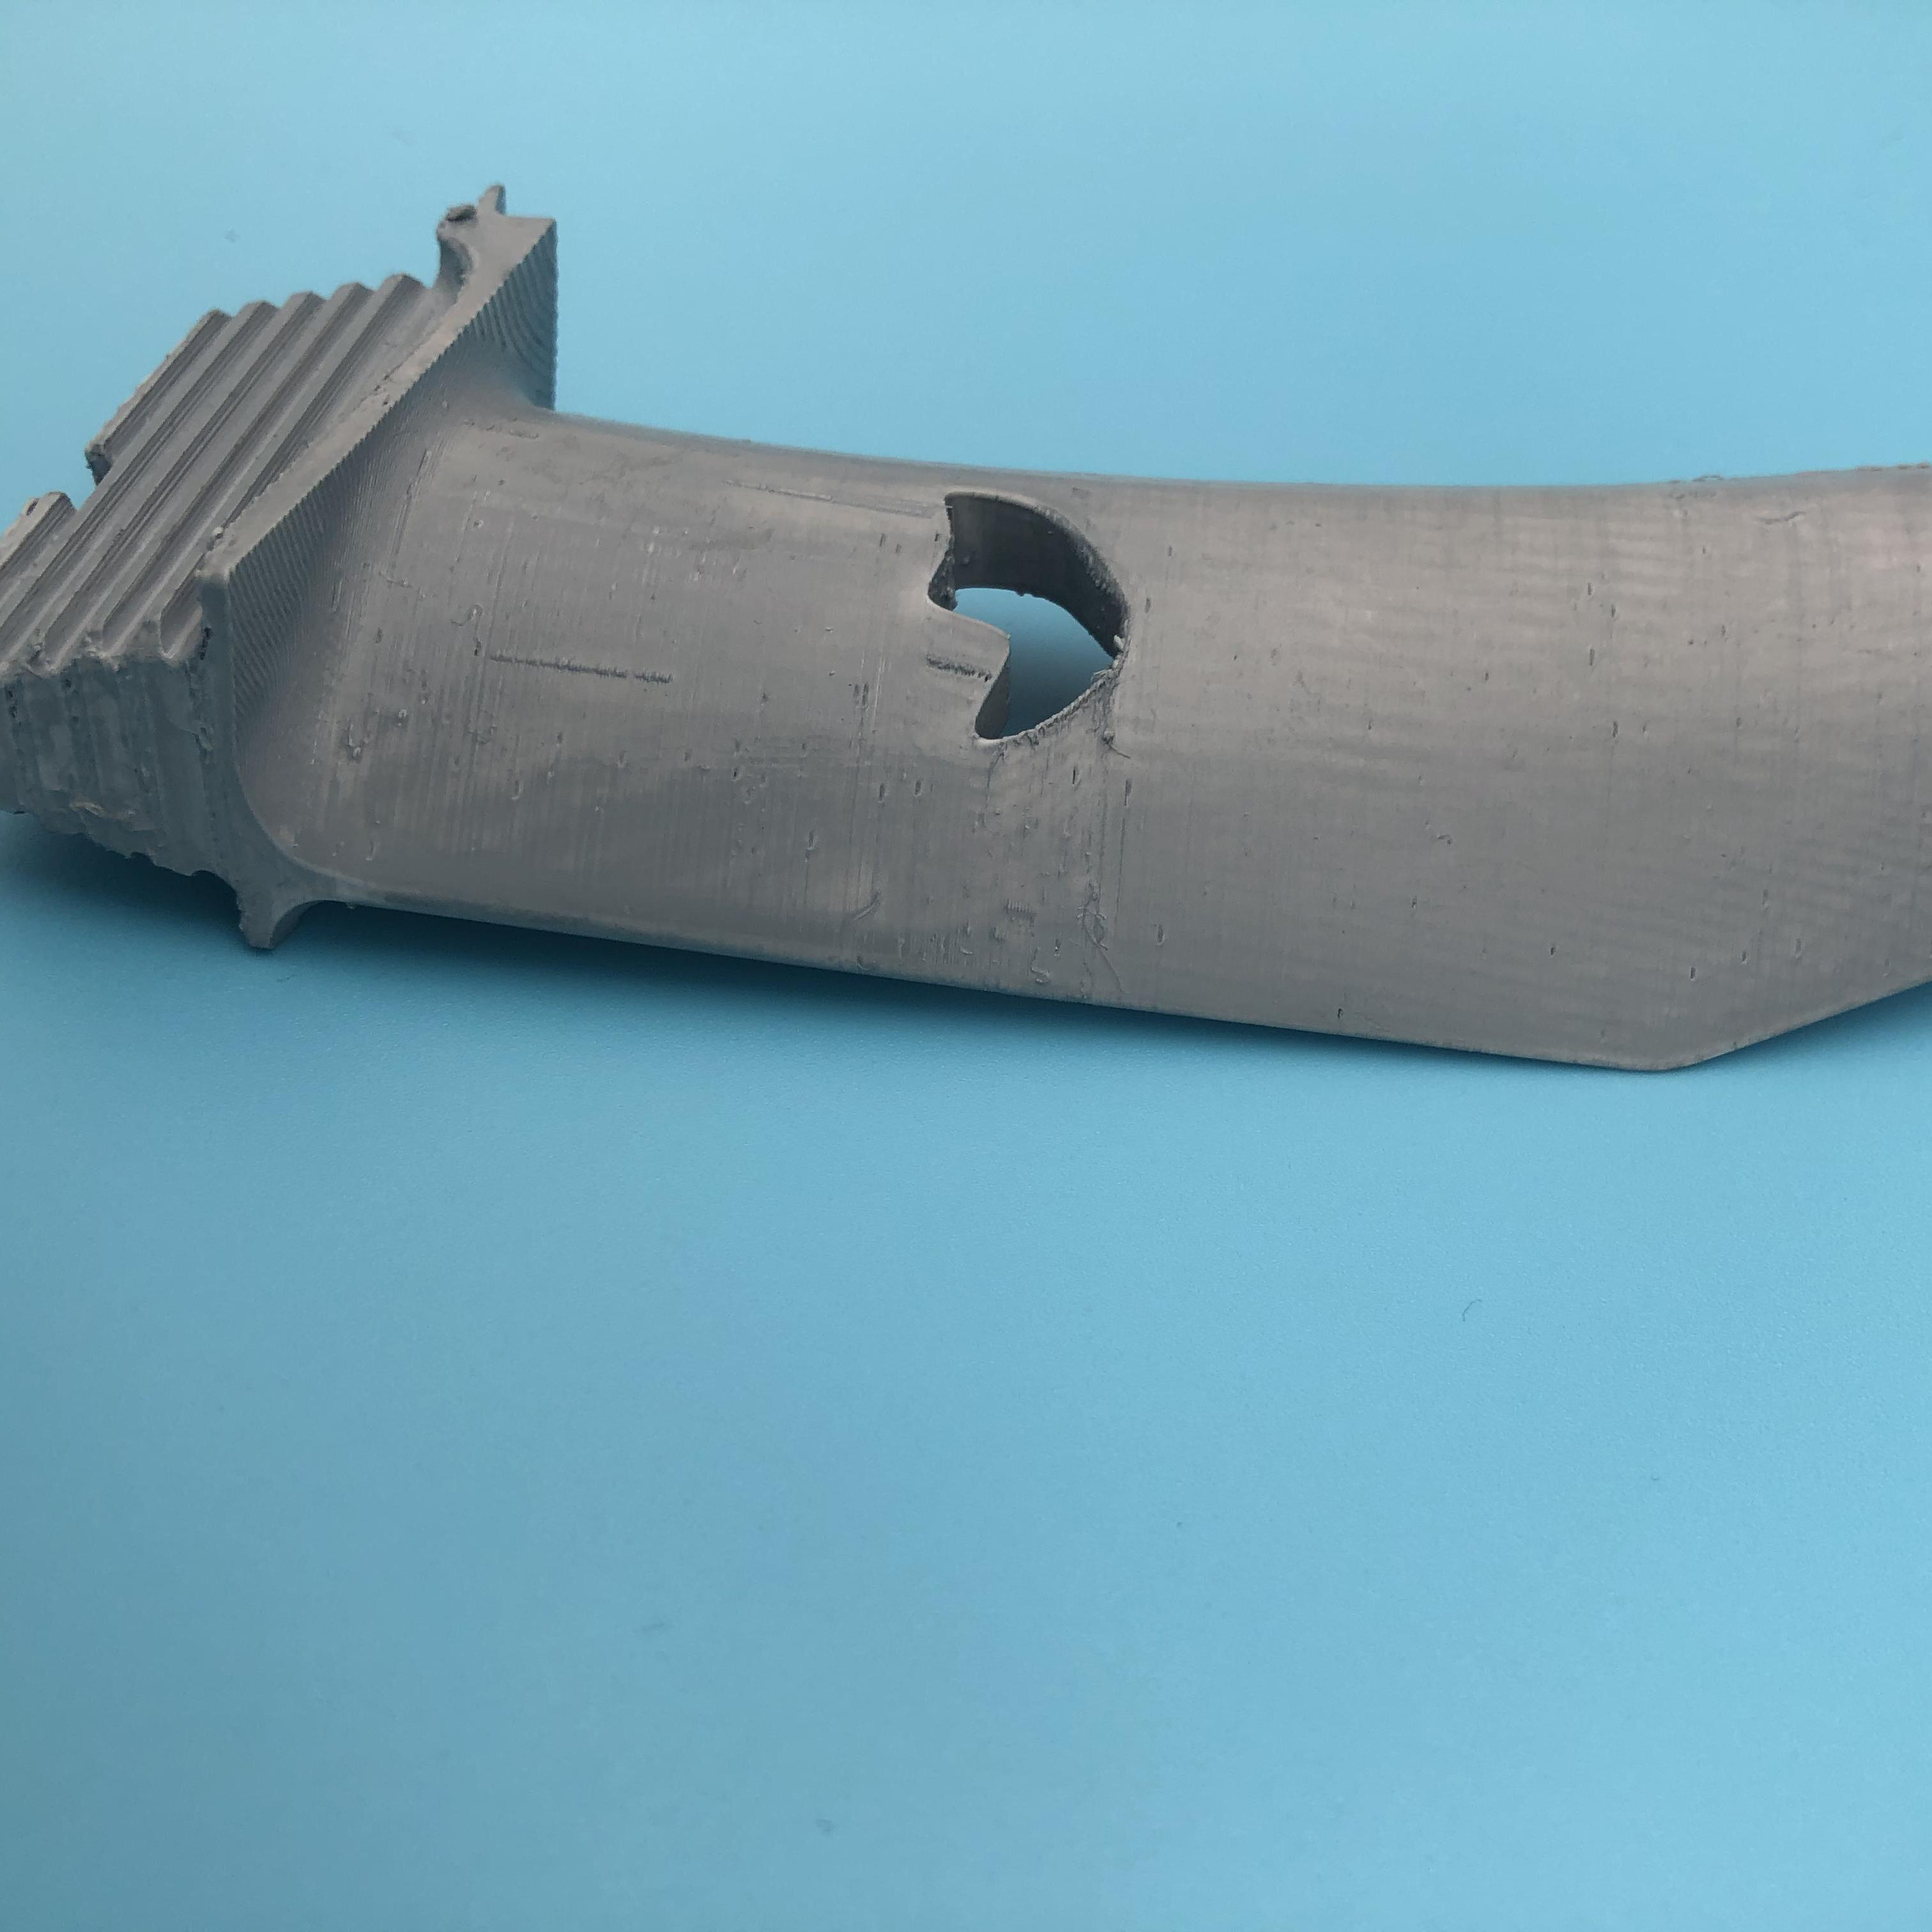breakdown: (929, 488, 1152, 745)
